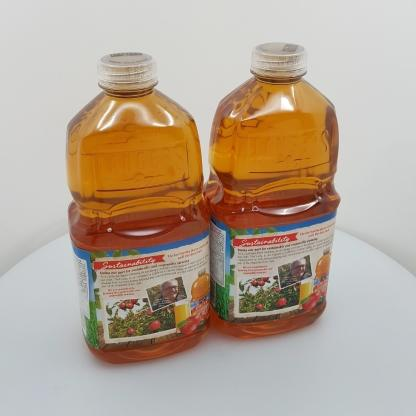-------------: (66, 52, 210, 364), (201, 42, 341, 338)
